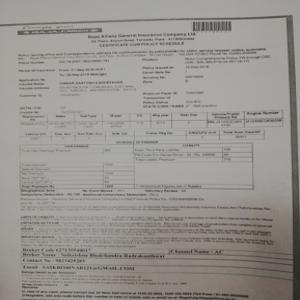image: (15, 24, 104, 33)
table: (18, 141, 254, 191), (17, 109, 284, 128), (18, 126, 267, 141)
text: (18, 47, 275, 109), (19, 194, 275, 247), (86, 32, 199, 46)
